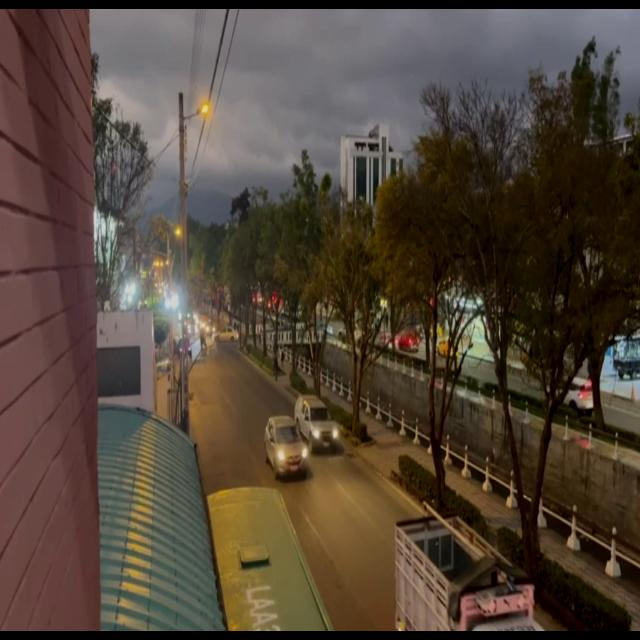CMT: (298, 396, 338, 450)
SUV: (266, 418, 300, 478)
